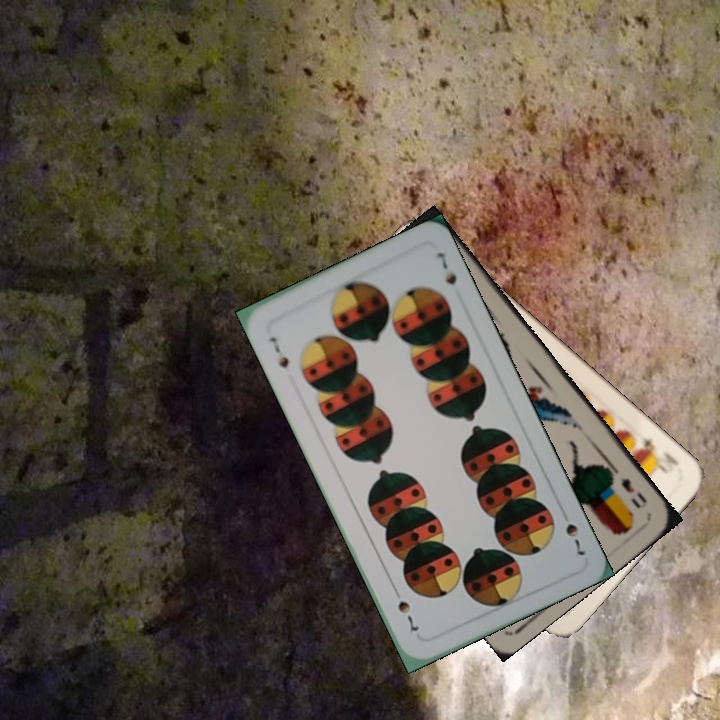E10: (632, 433, 682, 477)
EO: (607, 464, 650, 511)
S7: (556, 505, 588, 559), (265, 333, 292, 371)
